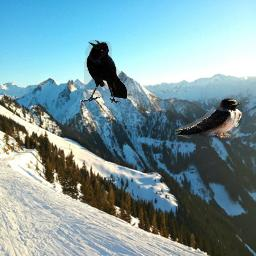Crow: (80, 40, 127, 104)
Swallow: (174, 98, 242, 138)
